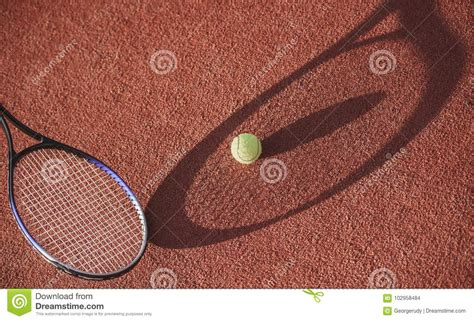tennis_ball: (230, 133, 262, 165)
